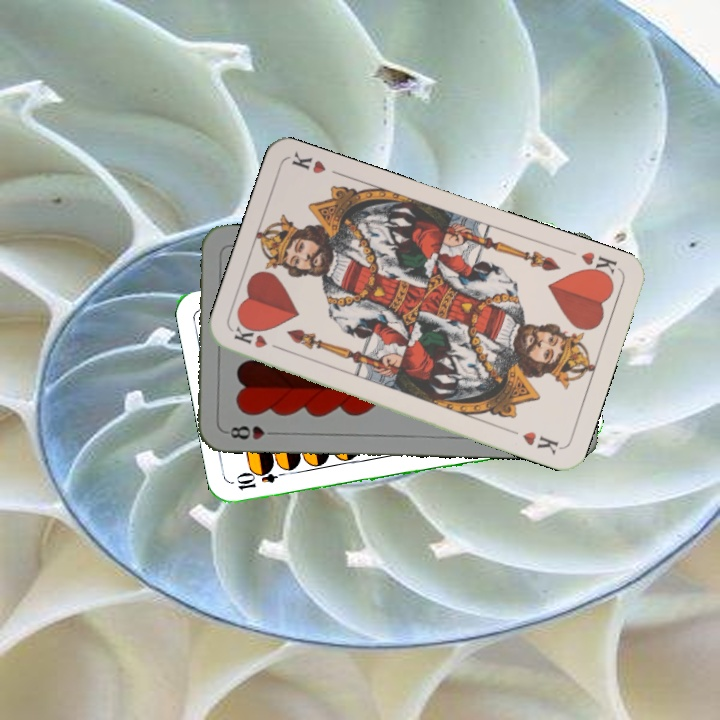E10: (232, 465, 291, 493)
H8: (222, 422, 281, 443)
HK: (229, 323, 288, 354), (576, 247, 622, 283)
